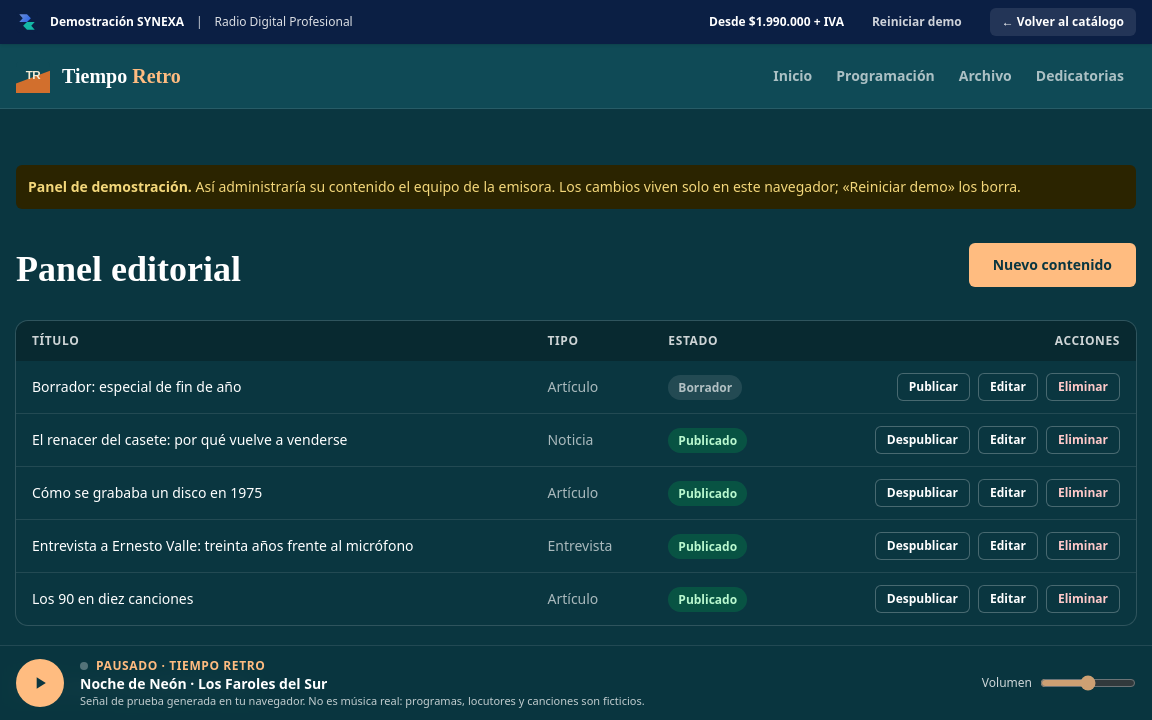
Test: demo Tiempo Retro › crea un contenido con validación
Check: the heading "Panel editorial" is shown, box x1=16 y1=249 x2=241 y2=289
Click the button "Nuevo contenido" at (1052, 265), box x1=969 y1=243 x2=1136 y2=287
(page scrolled)
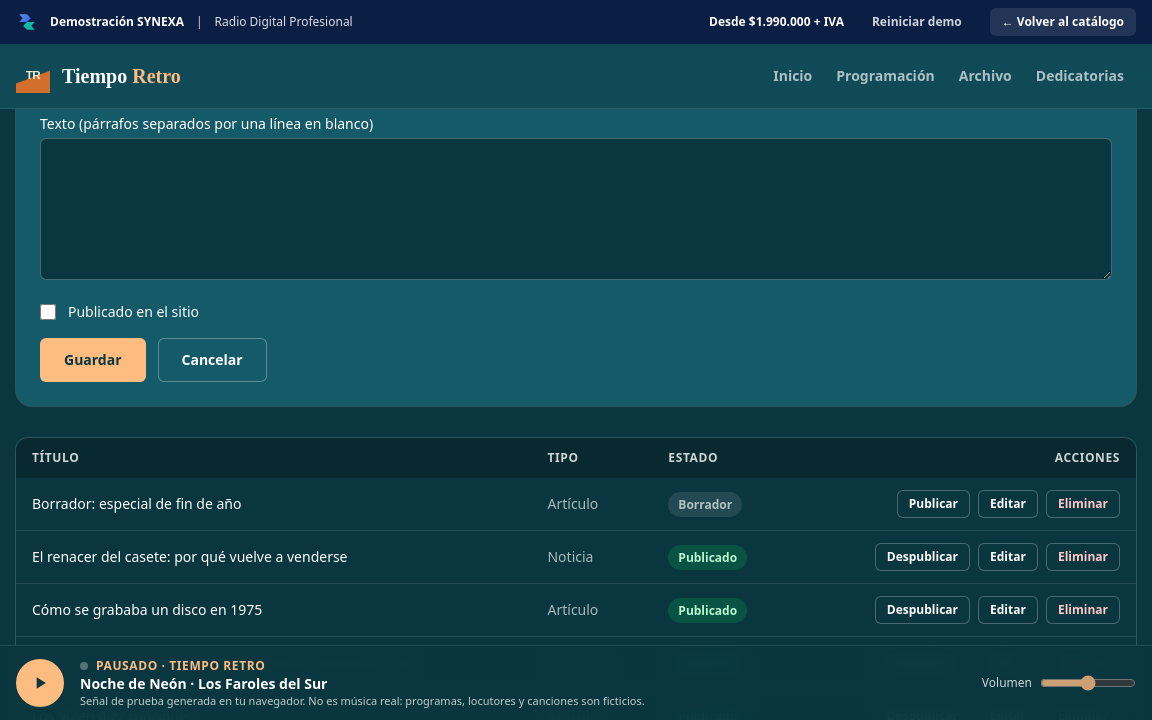
Click the button "Guardar" at (93, 360), box x1=40 y1=338 x2=146 y2=382
(page scrolled)
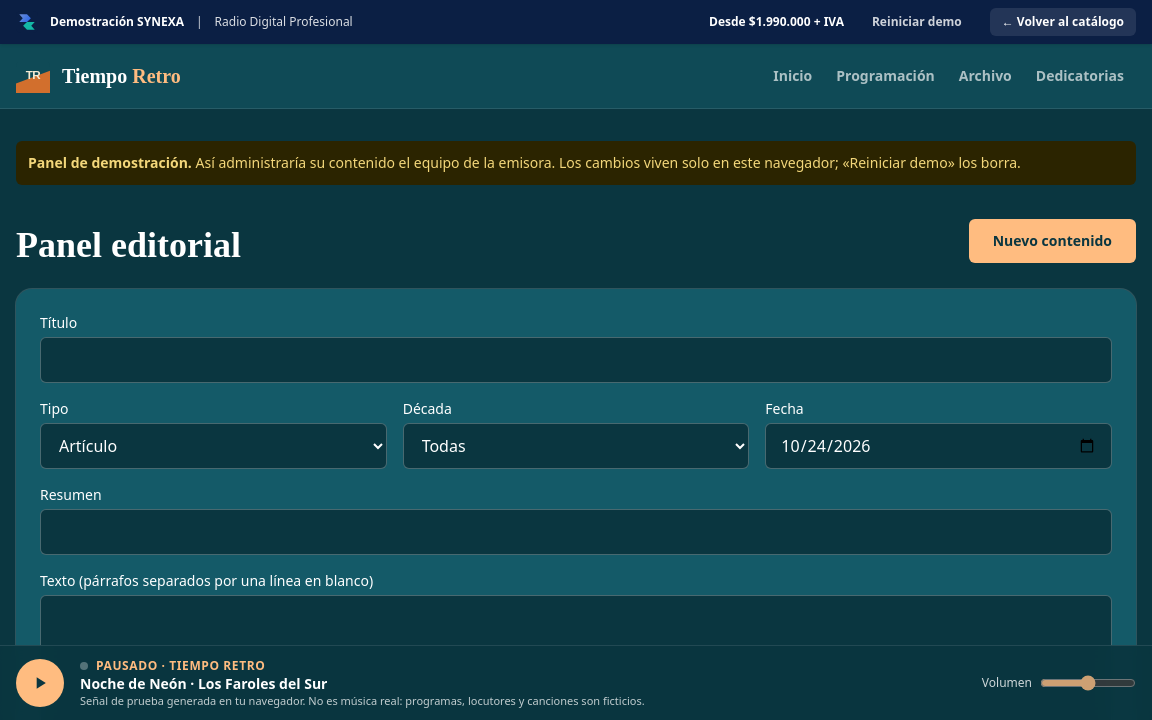
Type "Historia del walkman" into the field labelled "Título" at (576, 360), box x1=40 y1=337 x2=1112 y2=383
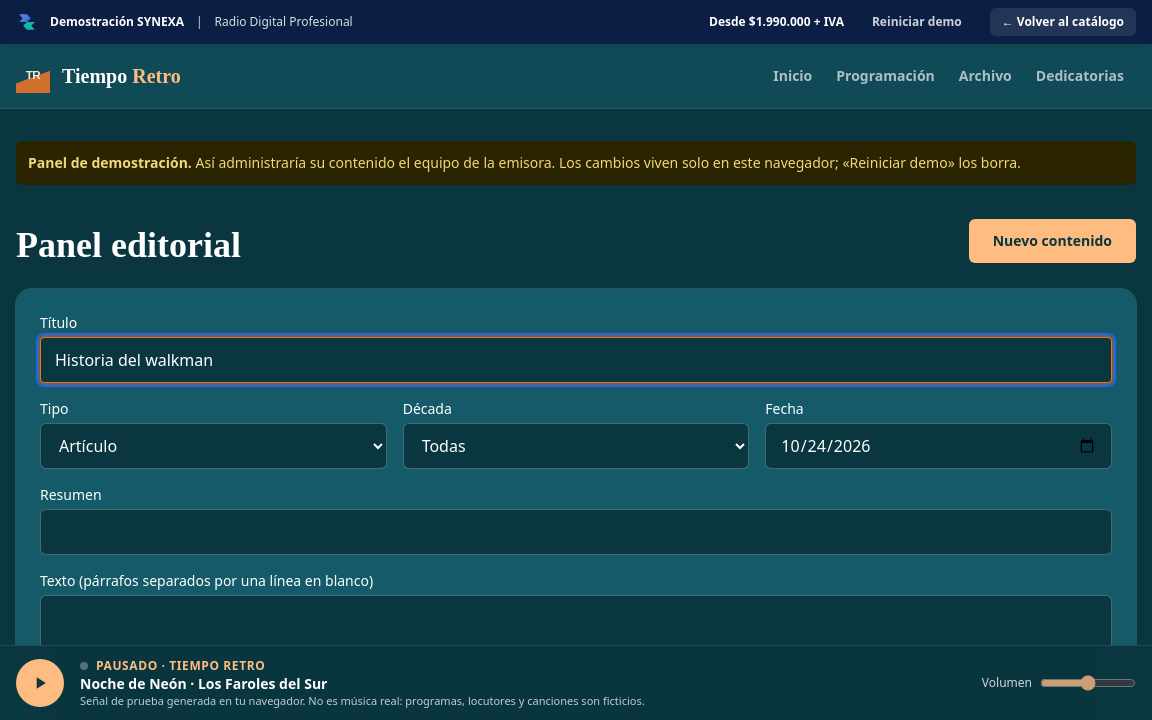
Type "Un aparato que cambió todo." into the field labelled "Resumen" at (576, 532), box x1=40 y1=509 x2=1112 y2=555
(page scrolled)
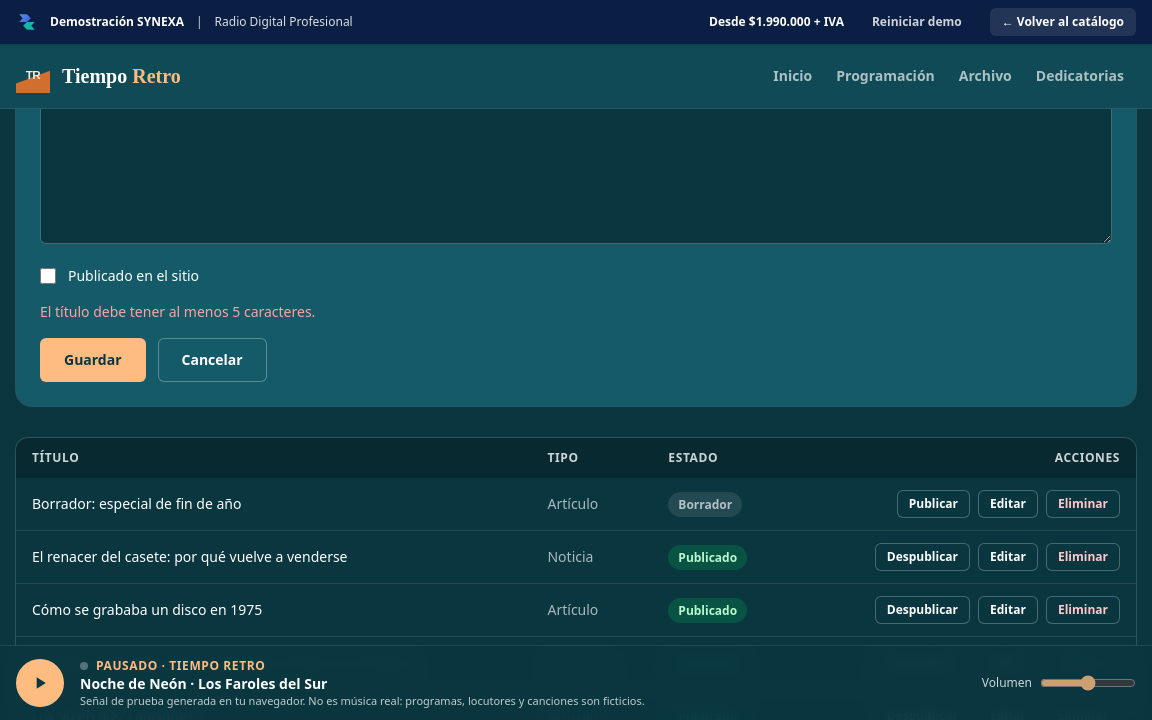
Click the button "Guardar" at (93, 360), box x1=40 y1=338 x2=146 y2=382
(page scrolled)
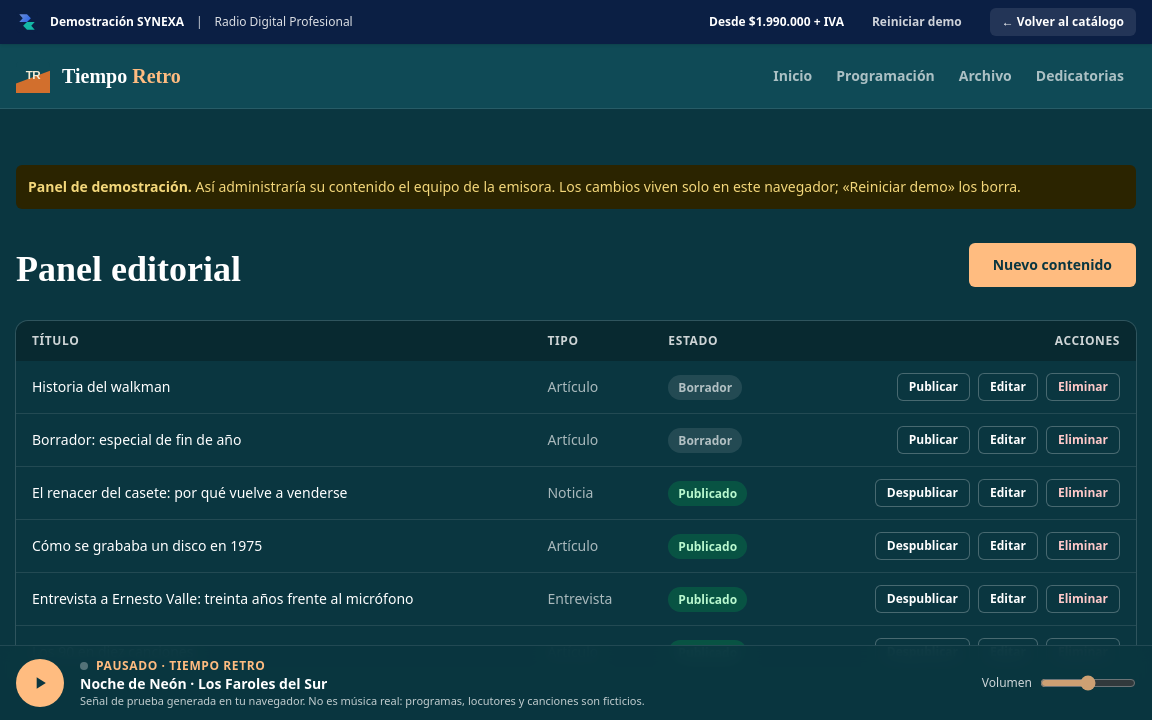
Check: the text "Historia del walkman" is shown, box x1=16 y1=361 x2=532 y2=414
